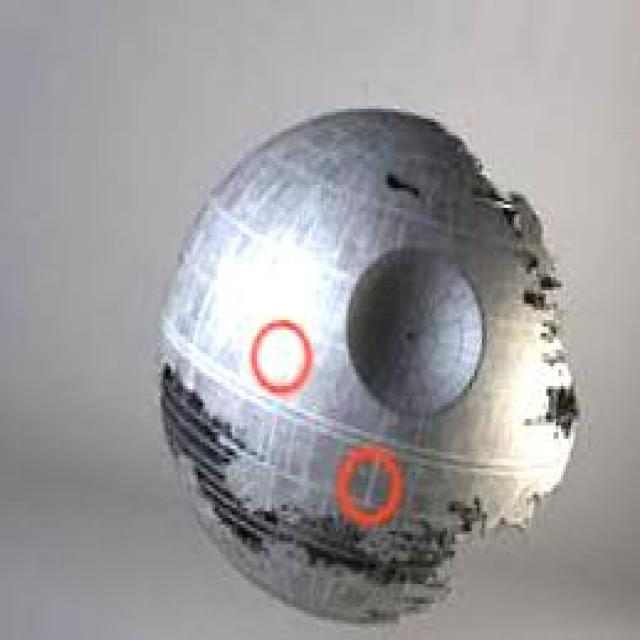deathstar: (152, 103, 582, 630)
